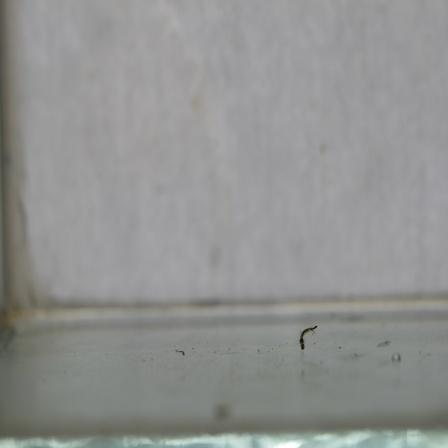Jentik-Nyamuk: (295, 322, 322, 354)
